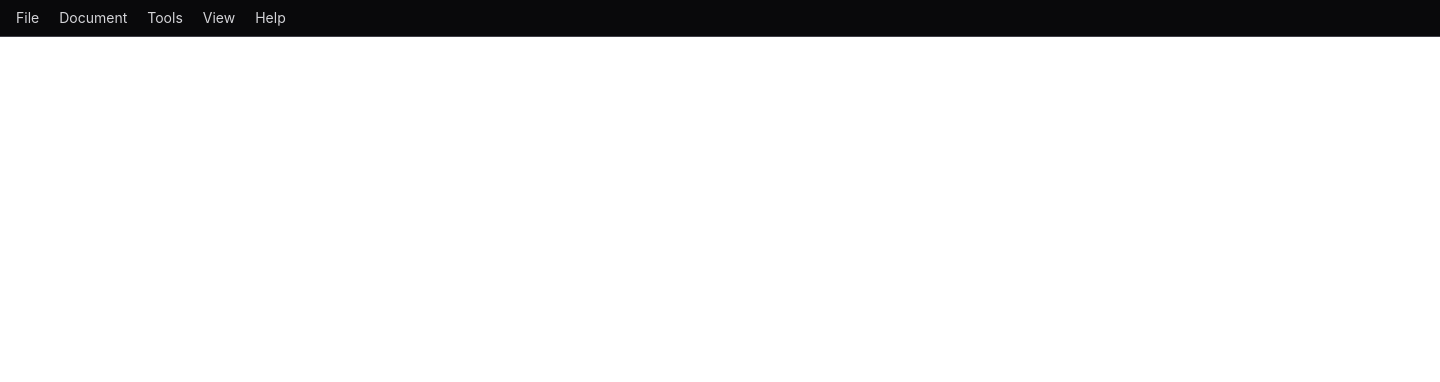
Test: MenuBar › shows check for updates at the bottom of the Help menu
The width and height of the screenshot is (1440, 382).
Click the button with test id "menu-help" at (270, 18), box [247,4,294,32]
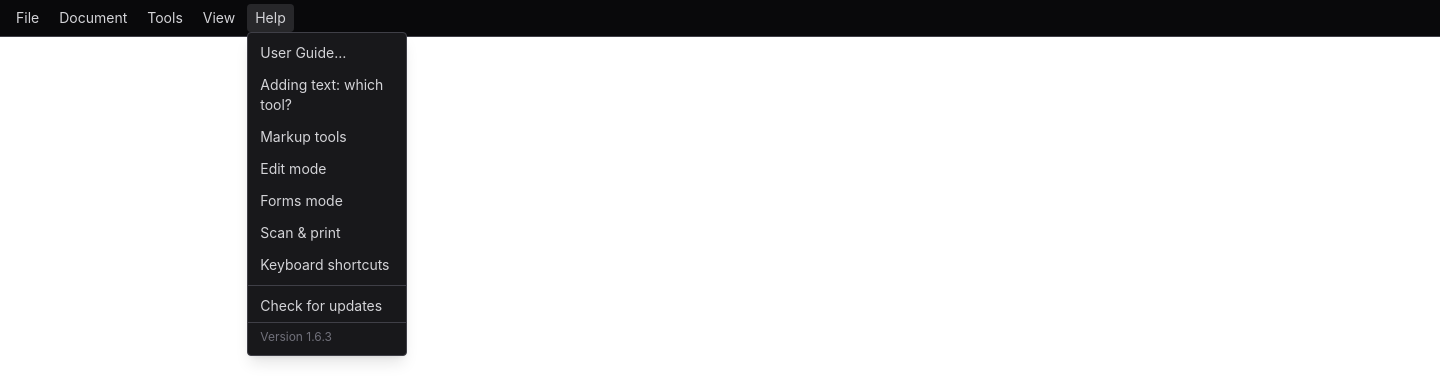
Now the button with test id "menu-check-updates" reads "Check for updates", box [248,290,406,322]
